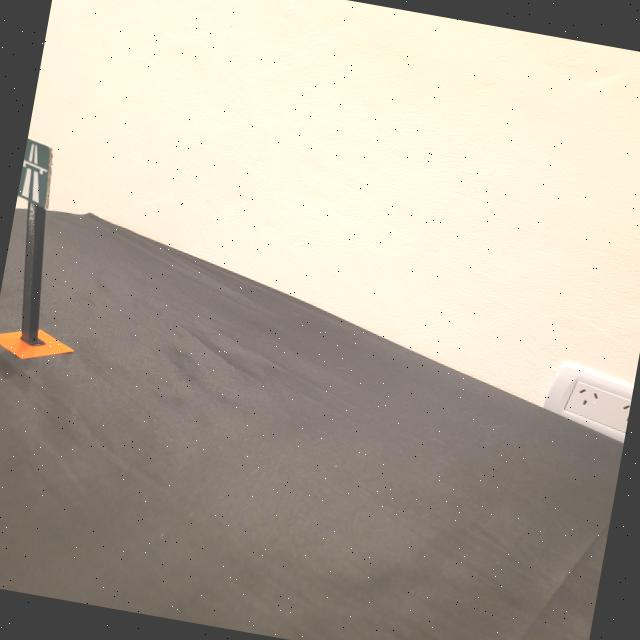highway_entrance: (18, 136, 60, 210)
